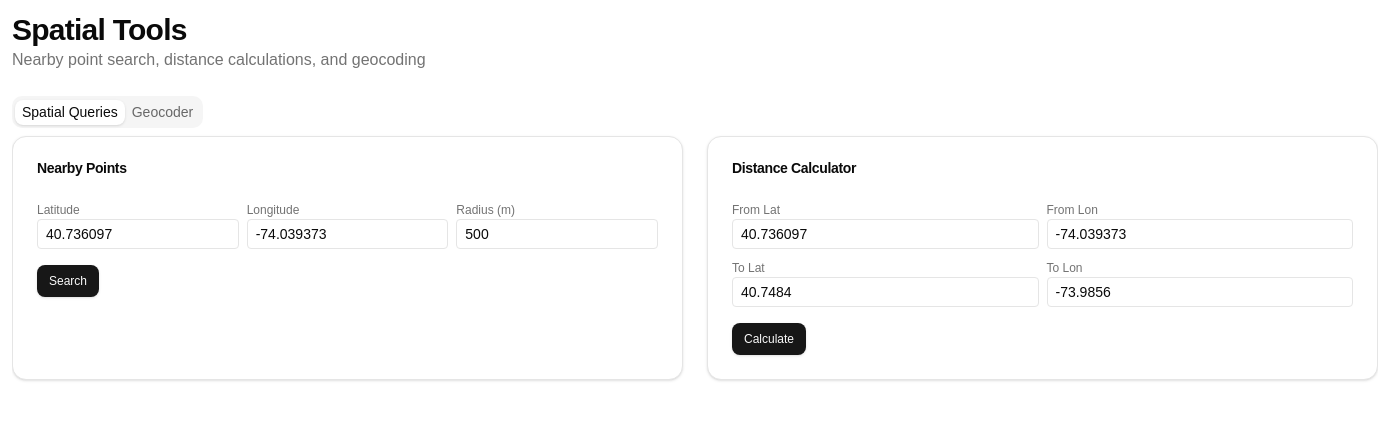
Scenario: SpatialPage › runs nearby search with updated inputs and renders results
Replace the text in the field labelled "Radius (m)" with "750" at x=557, y=234, box x1=456 y1=219 x2=658 y2=249
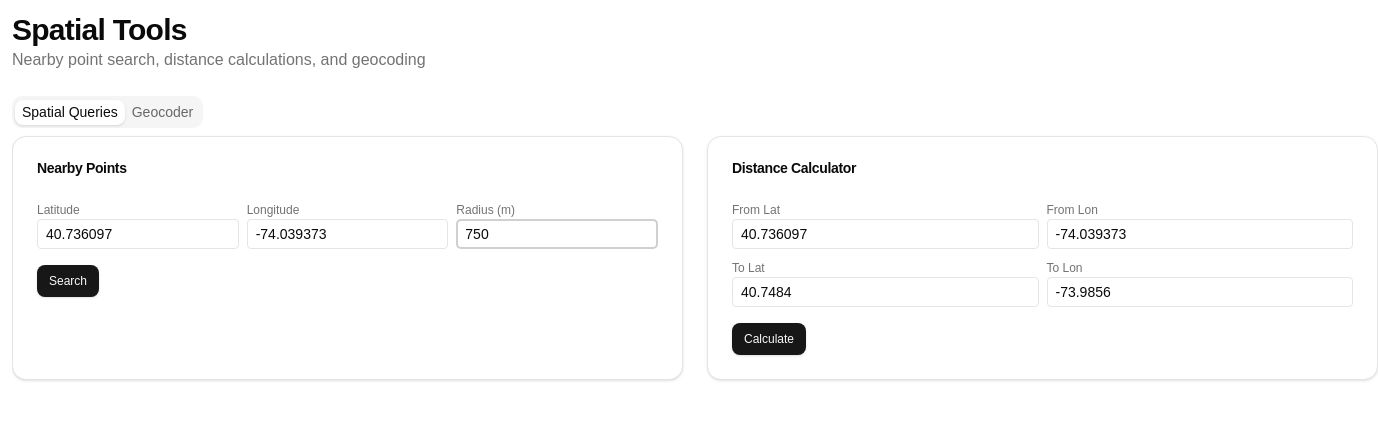
Click the button "Search" at x=68, y=281, box x1=37 y1=265 x2=99 y2=297
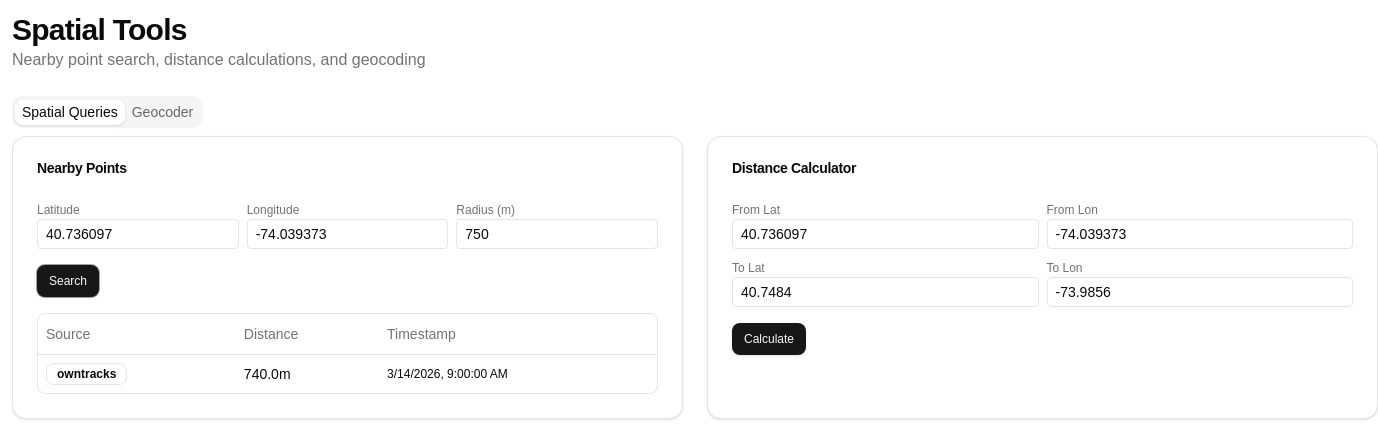
Now the text "740.0m" is shown, box x1=236 y1=354 x2=379 y2=392
